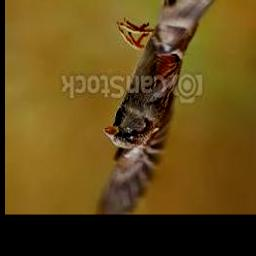Sparrow: (97, 0, 224, 215)
